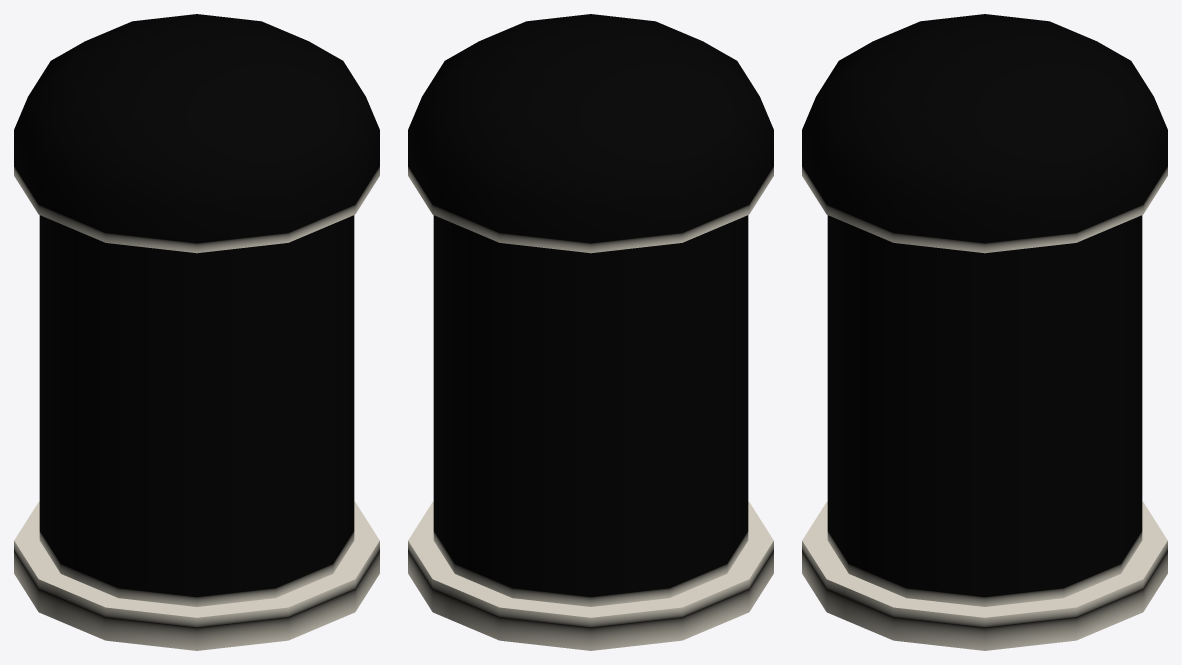
Rendered from mushroom_vent.glb.
3 renders of one model, left to right at view 1: azimuth 30°, elevation 25°; view 2: azimuth 150°, elevation 25°; view 3: azimuth 270°, elevation 25°, orthographic.
Parts seen in each view (by area): view 1: trunk, cap; view 2: trunk, cap; view 3: trunk, cap.
Part boxes in pixels (x1=…): trunk: x1=14, y1=215, x2=379, y2=650; cap: x1=14, y1=14, x2=379, y2=253; trunk: x1=408, y1=215, x2=773, y2=650; cap: x1=408, y1=14, x2=773, y2=253; trunk: x1=802, y1=215, x2=1167, y2=650; cap: x1=802, y1=14, x2=1167, y2=253.
Size of the model in its own units: 0.5 by 0.8 by 0.5.
